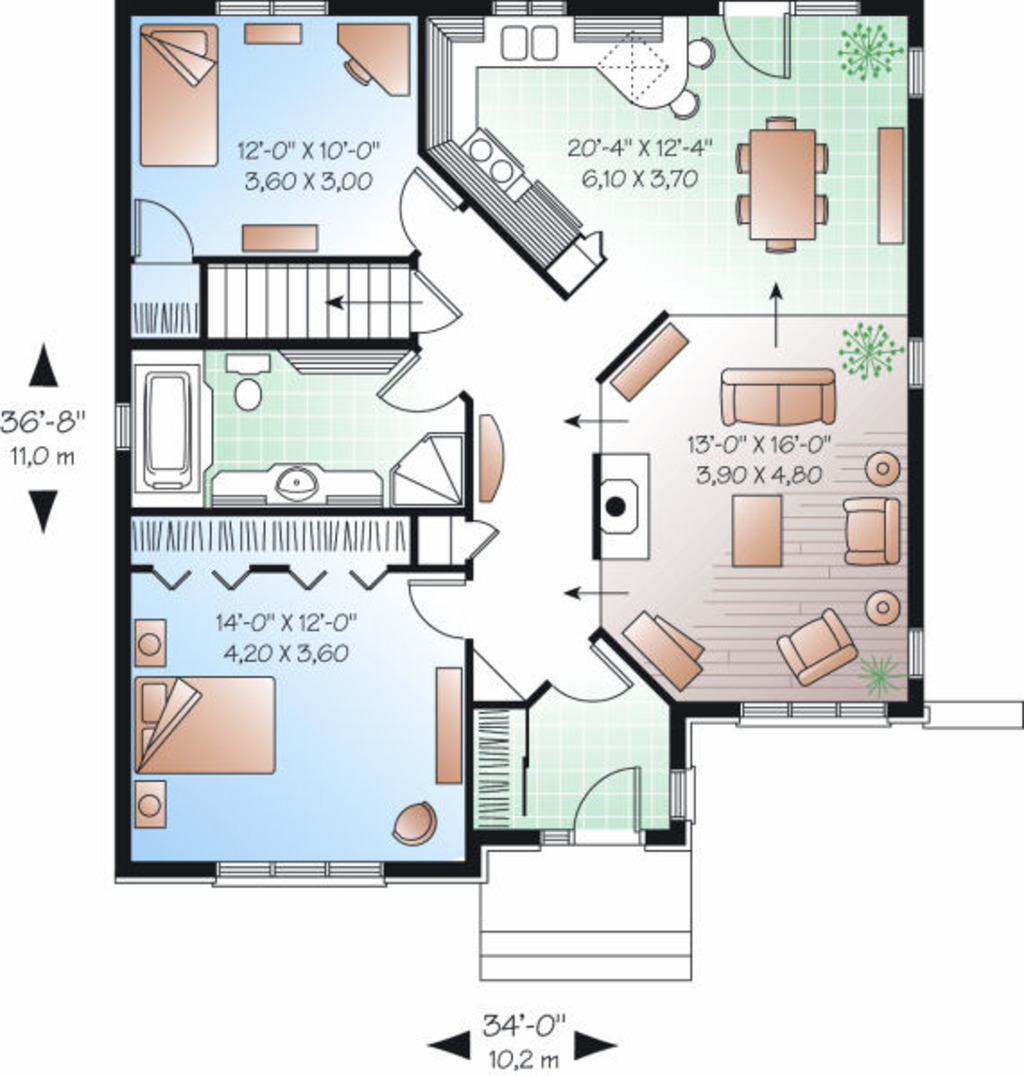bed: (121, 676, 294, 785), (131, 10, 226, 176)
dining_table: (724, 110, 838, 270)
door: (379, 166, 468, 256), (564, 763, 653, 850), (356, 348, 471, 415), (543, 631, 639, 711), (119, 193, 213, 266), (721, 1, 798, 85), (408, 571, 483, 646), (399, 266, 474, 333)
kitchen_bar: (571, 6, 726, 135)
large_sink: (214, 341, 276, 415)
large_sofa: (716, 355, 849, 441)
small_sink: (244, 456, 373, 516)
small_sofa: (768, 610, 874, 701), (828, 478, 903, 580)
stairs: (199, 265, 414, 338)
tub: (129, 350, 211, 501)
twin_sink: (479, 16, 571, 66)
window: (733, 696, 908, 736), (218, 858, 399, 891), (663, 763, 709, 826), (896, 43, 934, 106), (903, 625, 938, 685), (899, 333, 929, 390), (496, 1, 559, 28), (218, 1, 331, 16)
